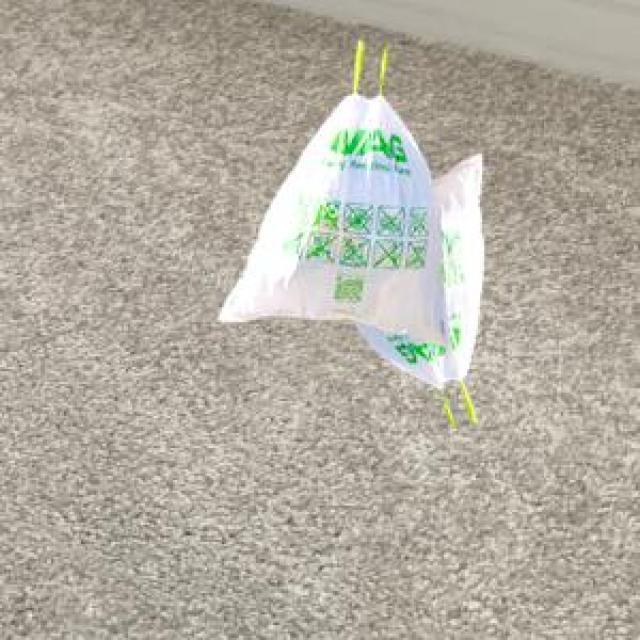waste: (219, 92, 482, 384)
